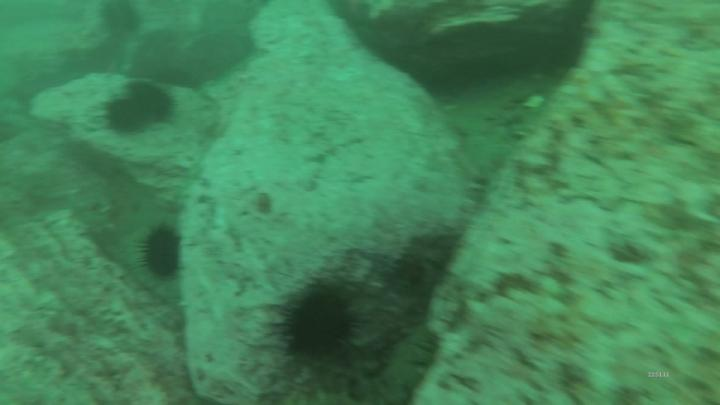echinus: (280, 286, 359, 364), (137, 224, 182, 281), (129, 81, 181, 125), (101, 95, 153, 138), (98, 1, 146, 37)
